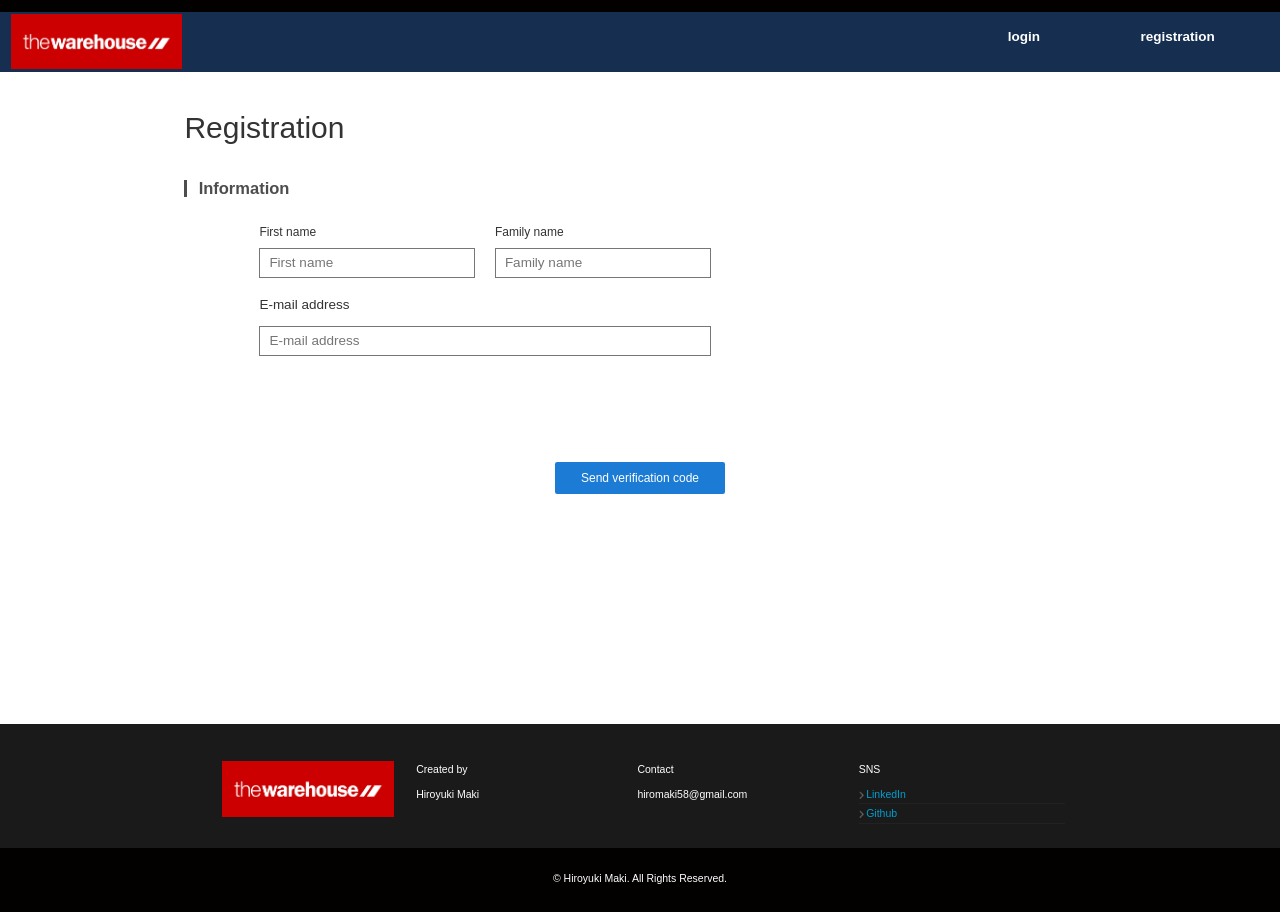
Test case: RegistrationPage › shows a message when the server rejects the input
The image size is (1280, 912).
Type "Taro" into the field labelled "First name" at (367,263), box x1=259 y1=248 x2=475 y2=278
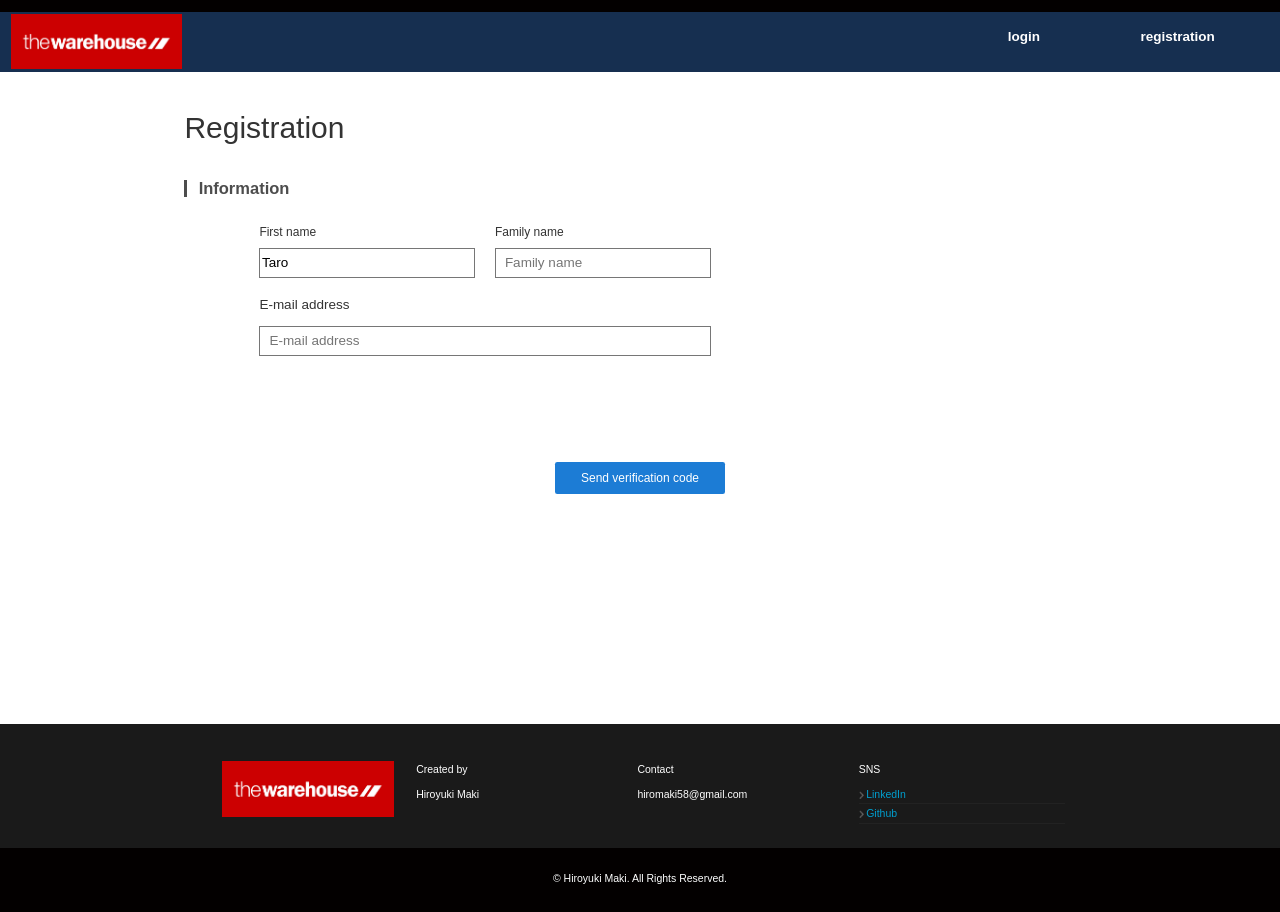
Type "Yamada" into the field labelled "Family name" at (603,263), box x1=495 y1=248 x2=711 y2=278
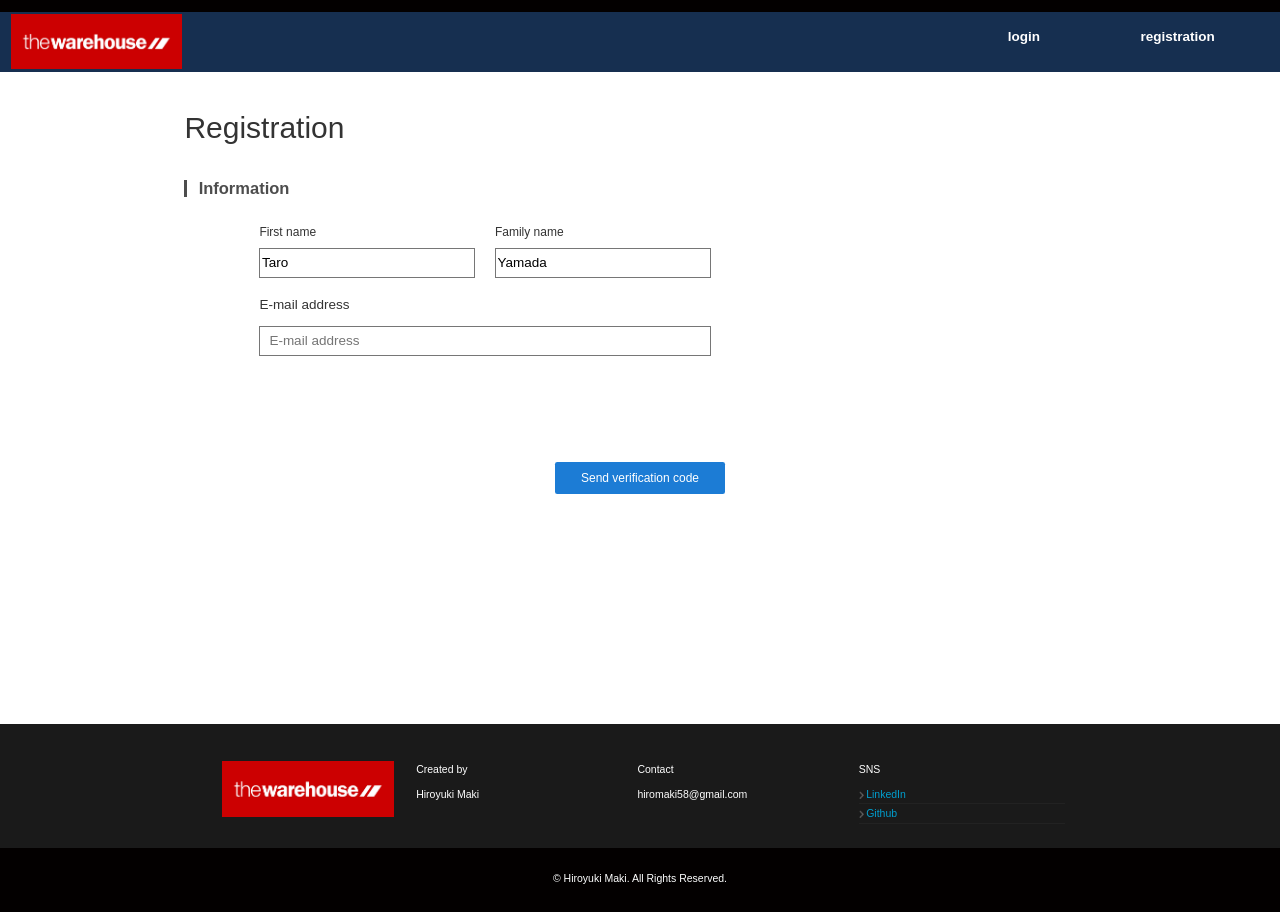
Type " taro@example.com " into the field labelled "E-mail address" at (485,341), box x1=259 y1=326 x2=711 y2=356
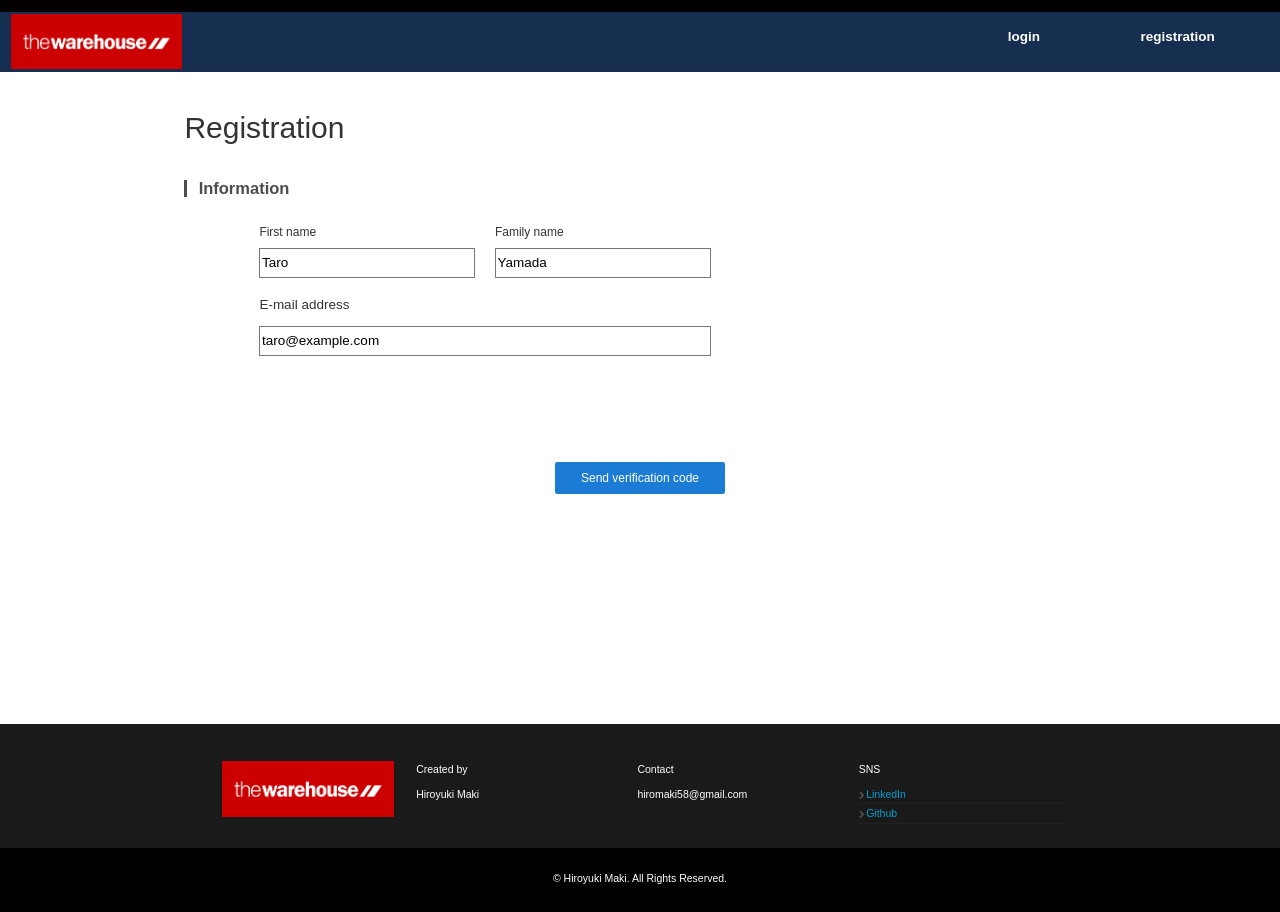
Click the button "Send verification code" at (640,478), box x1=556 y1=462 x2=725 y2=494
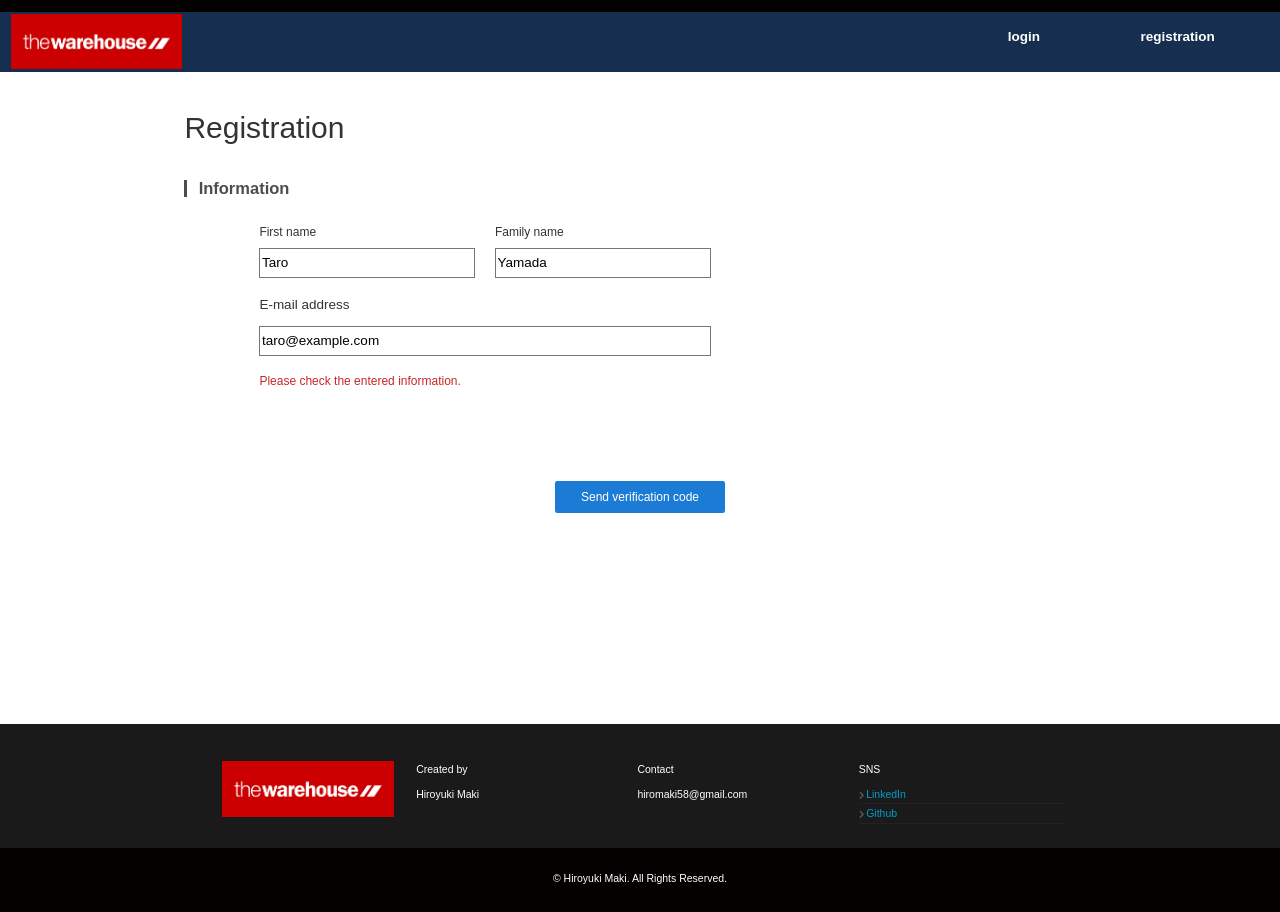
Expected: the message reads "Please check the entered information.", x1=259 y1=374 x2=461 y2=388
